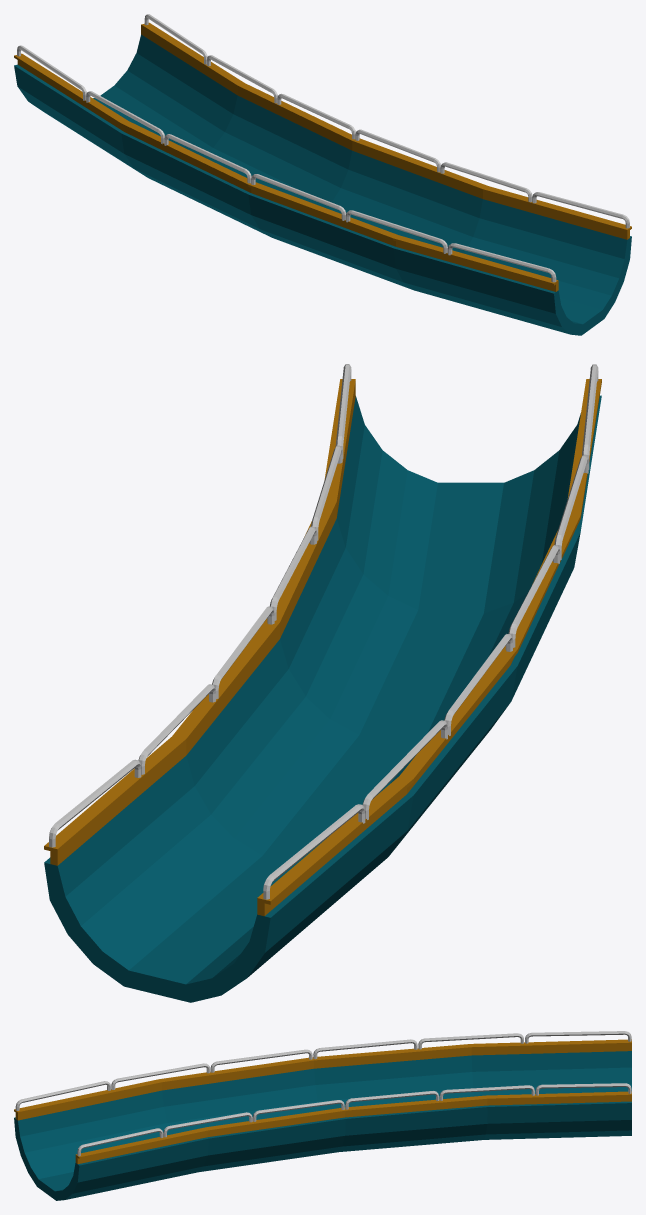
The model's file is halfpipe-curveLeft-30_l.FBX.
3 views of the same model, one above another, from view 1: azimuth 30°, elevation 25°; view 2: azimuth 150°, elevation 25°; view 3: azimuth 270°, elevation 25° (orthographic). The views are drawn at different scales.
Parts seen in each view (by area): view 1: halfpipe-curveLeft-30_l, wall_l, wall_r; view 2: halfpipe-curveLeft-30_l, wall_l, wall_r; view 3: halfpipe-curveLeft-30_l, wall_r, wall_l.
Boxes of the visible parts, x1,y1,x2,y2 form: halfpipe-curveLeft-30_l: (14, 34, 631, 335); wall_l: (141, 14, 631, 239); wall_r: (14, 45, 558, 291); halfpipe-curveLeft-30_l: (44, 395, 601, 1002); wall_l: (44, 364, 355, 865); wall_r: (257, 364, 601, 916); halfpipe-curveLeft-30_l: (14, 1051, 631, 1200); wall_r: (14, 1031, 631, 1120); wall_l: (75, 1083, 631, 1164).
Size of what is drawn, in the model's own units: 273 by 605 by 75.73.
